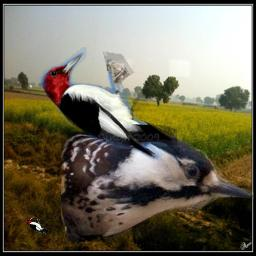Woodpecker: (61, 122, 254, 242), (26, 47, 184, 166), (24, 216, 49, 235)
